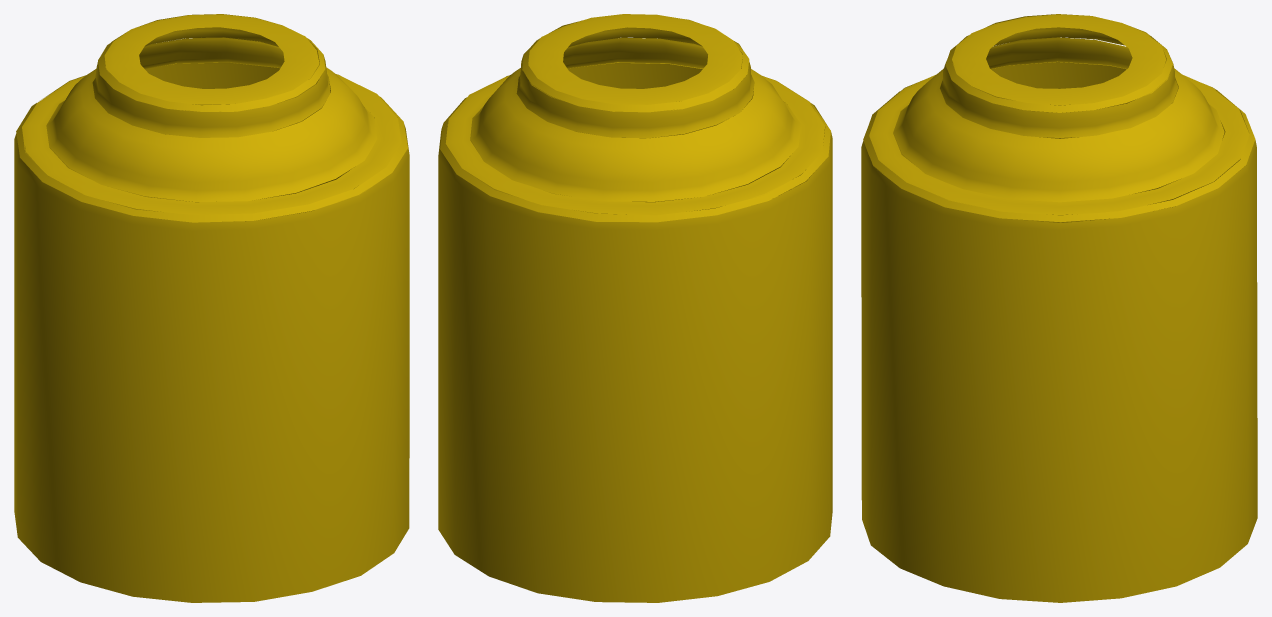
The model's file is original_3.obj.
3 renders of one model, left to right at view 1: azimuth 30°, elevation 25°; view 2: azimuth 150°, elevation 25°; view 3: azimuth 270°, elevation 25°, orthographic.
Visible parts, largest first — view 1: #ID21; view 2: #ID21; view 3: #ID21.
Part boxes in pixels (x1,y1,x2,y2): #ID21: (14, 14, 409, 602); #ID21: (438, 14, 832, 602); #ID21: (861, 14, 1257, 602).
Size of the model in its own units: 0.1091 by 0.14 by 0.109.
